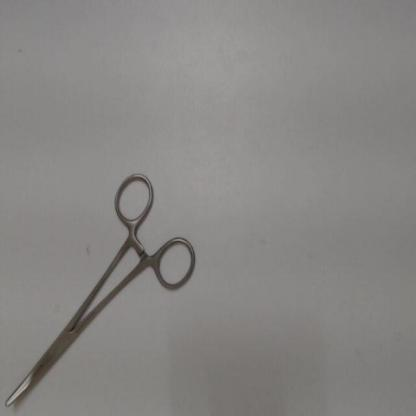Crile Artery Forceps: (1, 167, 199, 412)
